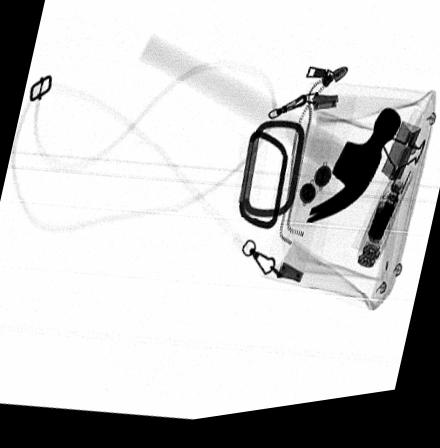Hammer: (137, 35, 401, 234)
